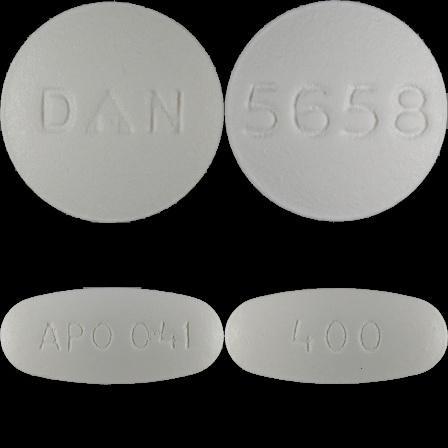42549-508: (0, 0, 224, 224)
